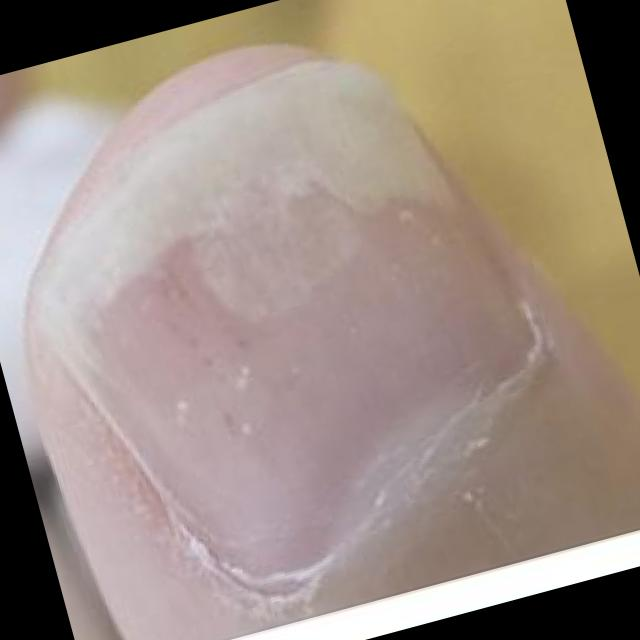Nail: (31, 58, 535, 605)
